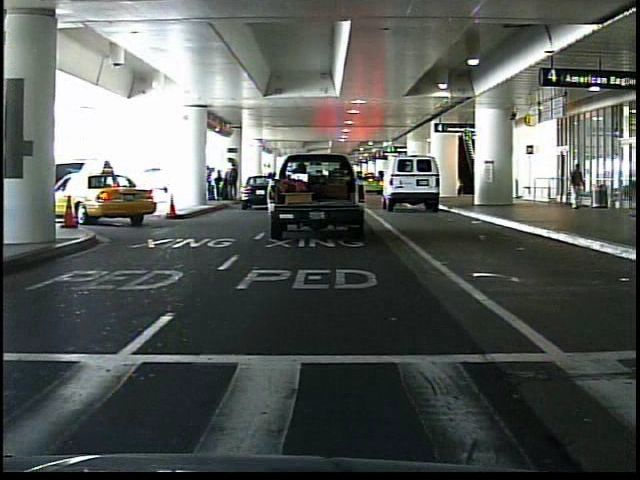person: (565, 161, 586, 212)
